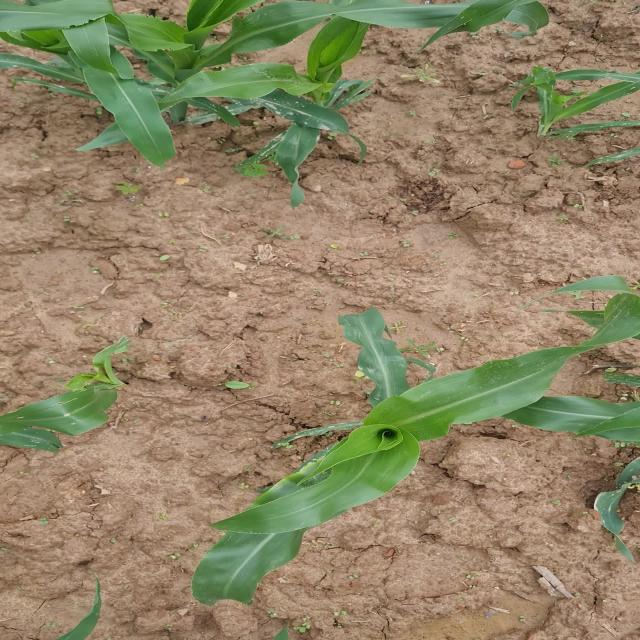maize: (264, 320, 536, 538), (26, 0, 358, 173), (554, 294, 640, 508), (503, 59, 640, 153), (0, 380, 151, 447)
